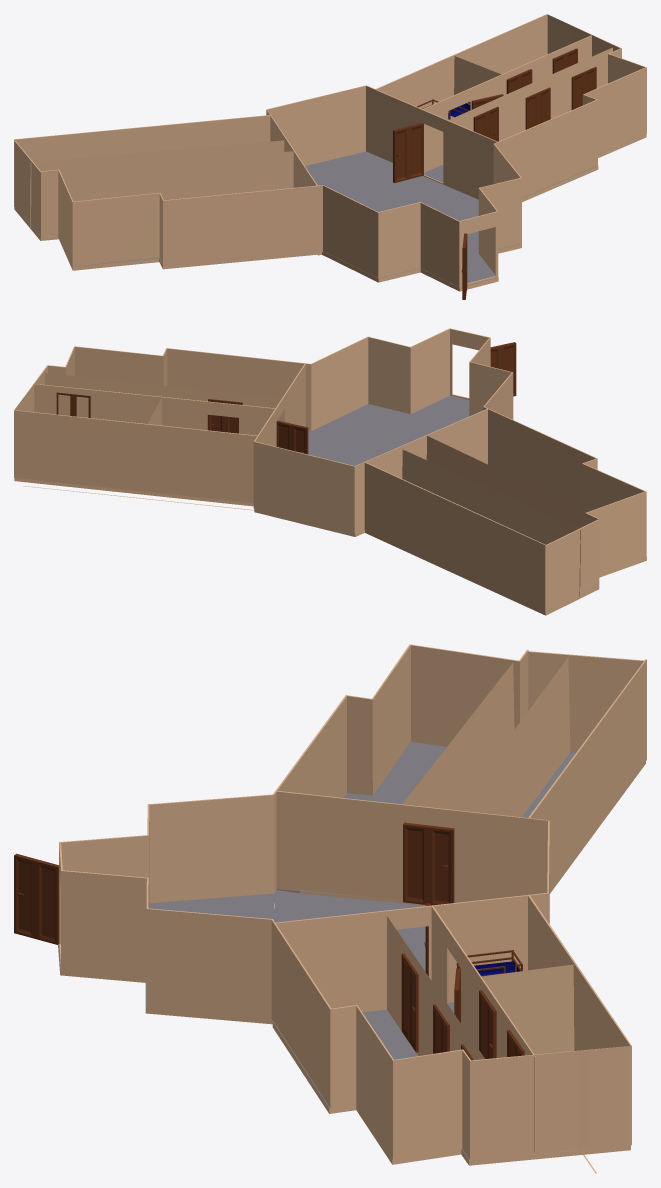
Rendered from exterior.gltf.
3 renders of one model, top to bottom at view 1: azimuth 30°, elevation 25°; view 2: azimuth 150°, elevation 25°; view 3: azimuth 270°, elevation 25°, orthographic. The views are drawn at different scales.
Visible parts, largest first — view 1: building, Door, Door.005, Door.008, Door.004; view 2: building, Door, Door.003, Door.004; view 3: building, Door.002, Door.003, Door.004, Door.006, Bed 3.
Part boxes in pixels (x1,y1,x2,y2): building: (14,14,646,291); Door: (393,122,423,182); Door.005: (525,87,550,129); Door.008: (571,66,596,109); Door.004: (473,106,498,141); building: (14,328,646,615); Door: (276,420,308,454); Door.003: (490,342,516,396); Door.004: (208,399,242,433); building: (58,644,646,1173); Door.002: (403,822,454,905); Door.003: (14,853,59,944); Door.004: (401,953,418,1052); Door.006: (479,990,496,1058); Bed 3: (456,950,522,976).
Bounding box in the file's own units: 55.28 × 7.76 × 35.45.
